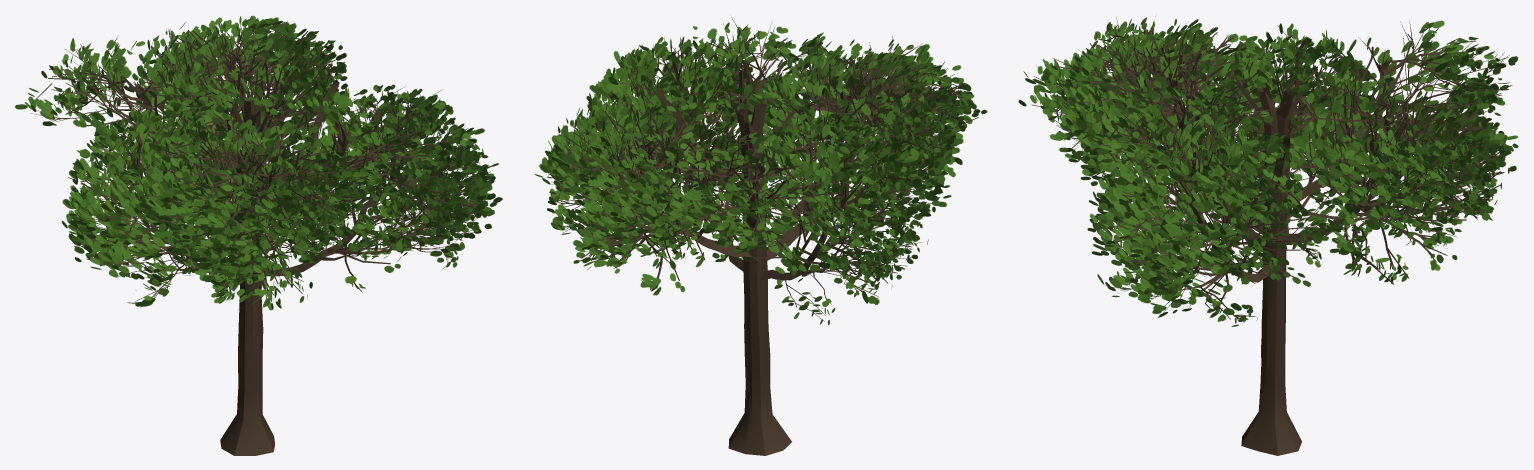
3 views of the same model, side by side, from view 1: azimuth 30°, elevation 25°; view 2: azimuth 150°, elevation 25°; view 3: azimuth 270°, elevation 25° (orthographic). The views are drawn at different scales.
Visible parts, largest first — view 1: oak 01.001_trunk_Mat.001_0.134; view 2: oak 01.001_trunk_Mat.001_0.134; view 3: oak 01.001_trunk_Mat.001_0.134.
Boxes of the visible parts, left/top/right/bottom form: oak 01.001_trunk_Mat.001_0.134: left=14, top=16, right=502, bottom=455; oak 01.001_trunk_Mat.001_0.134: left=534, top=17, right=987, bottom=455; oak 01.001_trunk_Mat.001_0.134: left=1018, top=16, right=1518, bottom=455.
Size of the model in its own units: 6.1 by 5.47 by 6.65.
Materials: 2 (1 with a texture image).
